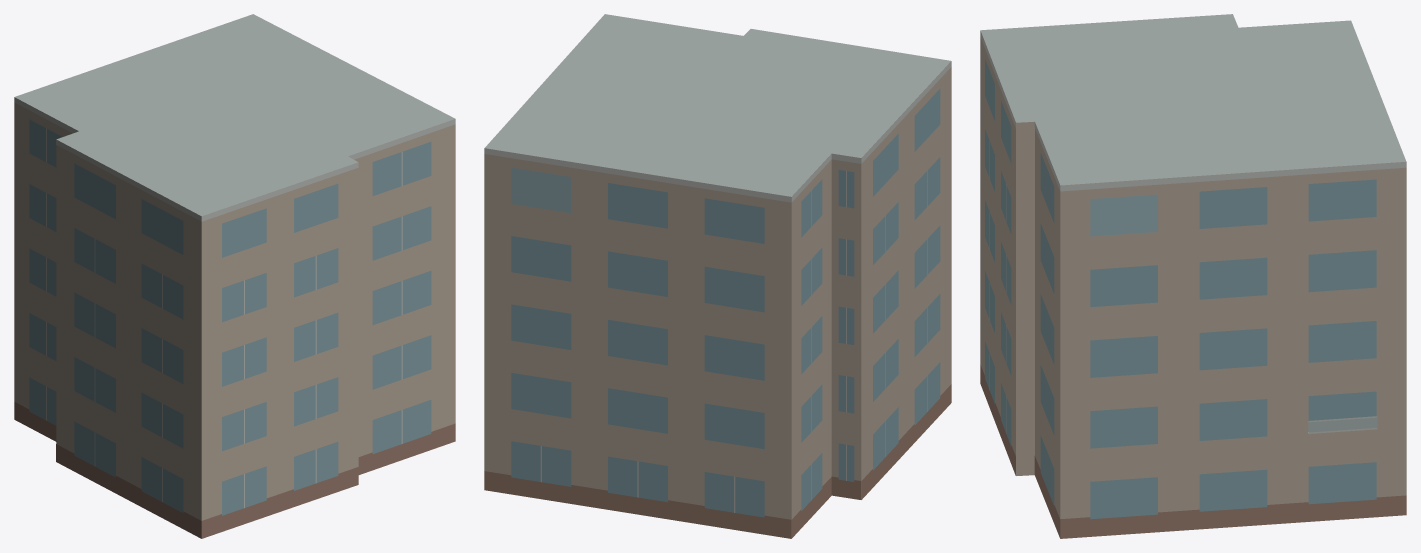
The model's file is survey-upis-32895558.glb.
3 views of the same model, side by side, from view 1: azimuth 30°, elevation 25°; view 2: azimuth 150°, elevation 25°; view 3: azimuth 270°, elevation 25° (orthographic). The views are drawn at different scales.
Parts seen in each view (by area): view 1: survey-upis-32895558.tmp; view 2: survey-upis-32895558.tmp; view 3: survey-upis-32895558.tmp.
Boxes of the visible parts, <box> form: survey-upis-32895558.tmp: <box>14,14,455,538</box>; survey-upis-32895558.tmp: <box>484,14,951,538</box>; survey-upis-32895558.tmp: <box>980,14,1406,538</box>.
Bounding box in the file's own units: 15.1 × 14.5 × 15.86.
